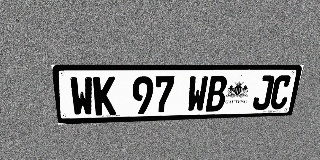7: (153, 76, 175, 113)
9: (133, 76, 154, 114)
B: (205, 76, 228, 112)
C: (269, 75, 293, 109)
J: (252, 75, 275, 110)
K: (93, 76, 116, 115)
W: (69, 77, 94, 116), (186, 76, 209, 112)
